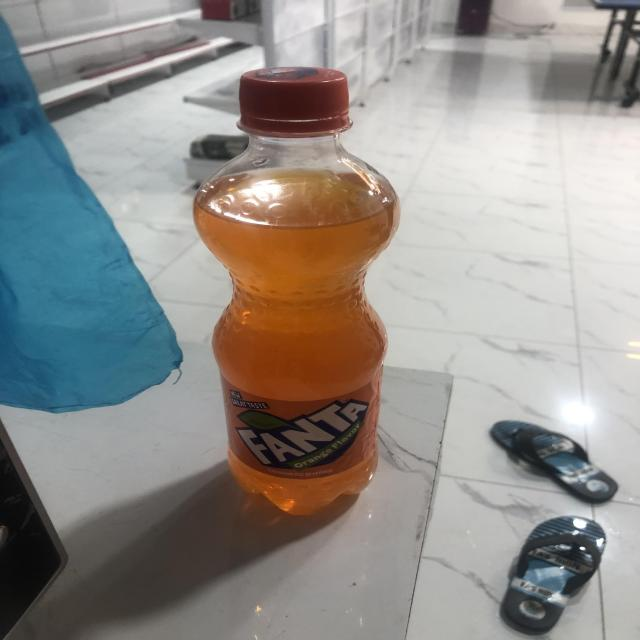bottle-plastic: (187, 60, 405, 520)
